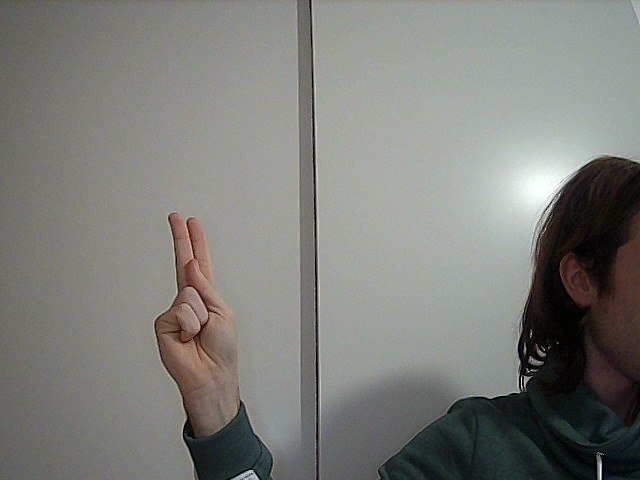k: (113, 206, 270, 378)
